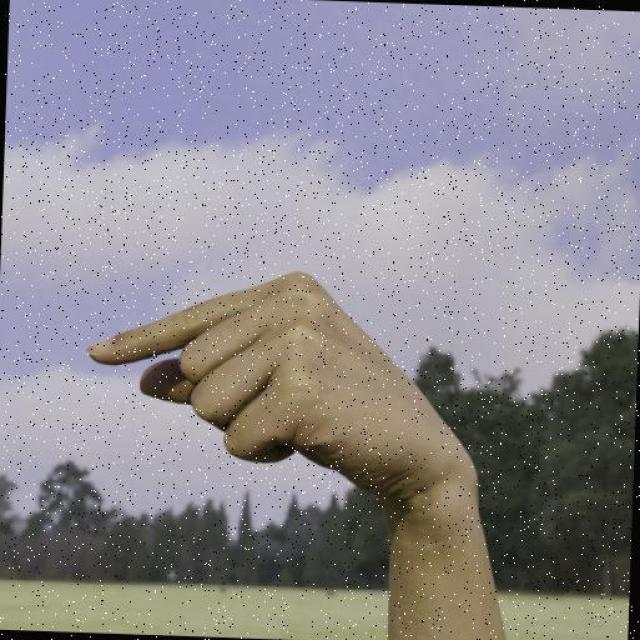G: (80, 260, 491, 504)
